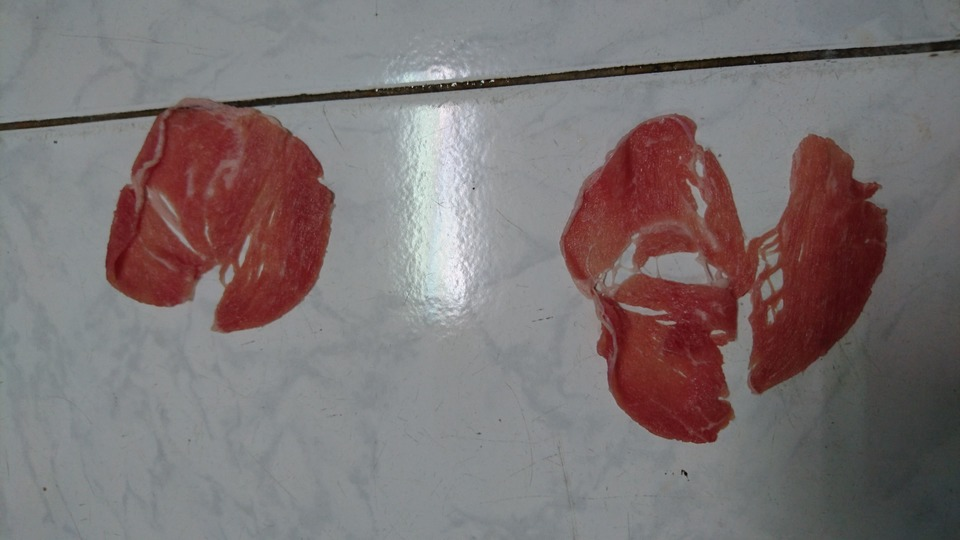restructured meat: (550, 123, 892, 428), (92, 98, 380, 320)
